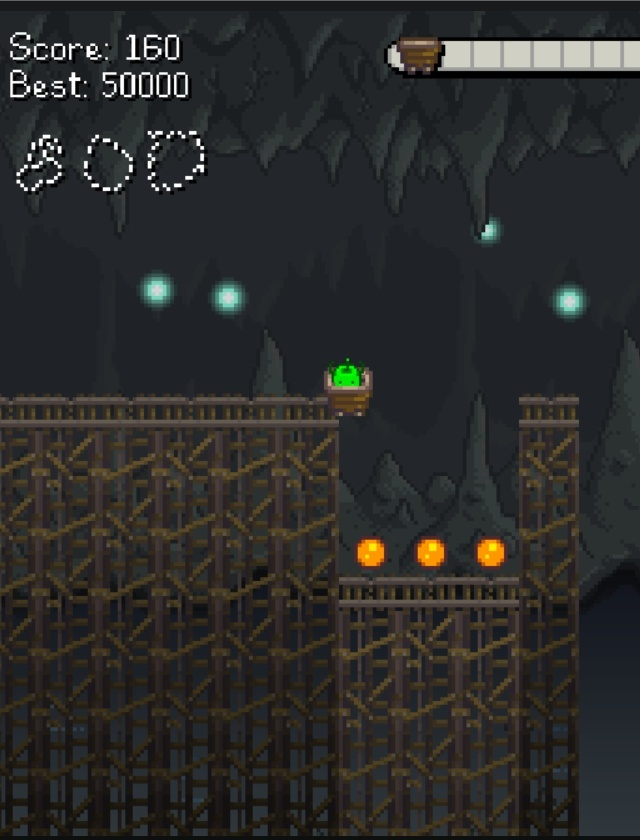coins: (416, 538, 445, 567), (476, 538, 505, 567), (357, 539, 385, 567)
minecart: (327, 371, 371, 415)
tracks: (0, 386, 315, 434), (324, 569, 526, 615), (510, 386, 595, 438)
